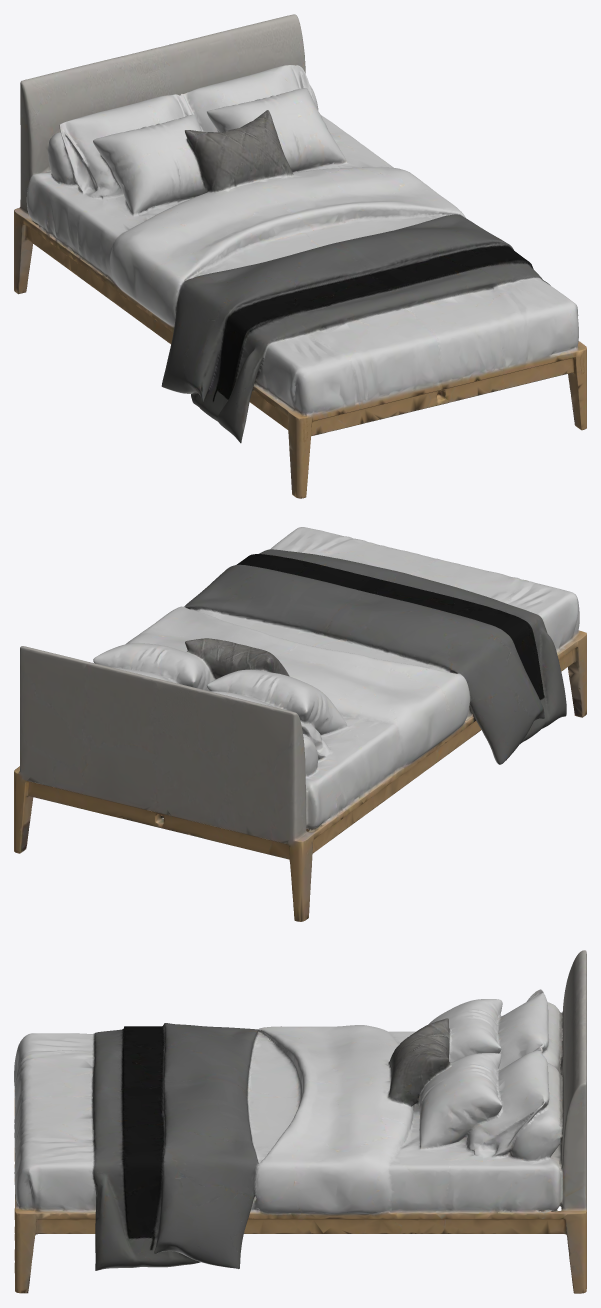
File: right-bed-full.glb
The picture shows the model from 3 angles, top to bottom: view 1: azimuth 30°, elevation 25°; view 2: azimuth 150°, elevation 25°; view 3: azimuth 270°, elevation 25°; orthographic projection.
Parts seen in each view (by area): view 1: Meshy_AI_Serene_Minimalist_Bed_20261119_texture; view 2: Meshy_AI_Serene_Minimalist_Bed_20261119_texture; view 3: Meshy_AI_Serene_Minimalist_Bed_20261119_texture.
Part boxes in pixels (x1,y1,x2,y2): Meshy_AI_Serene_Minimalist_Bed_20261119_texture: (14, 14, 586, 498); Meshy_AI_Serene_Minimalist_Bed_20261119_texture: (14, 527, 586, 921); Meshy_AI_Serene_Minimalist_Bed_20261119_texture: (14, 950, 586, 1293).
Bounding box in the file's own units: 1.51 × 0.8599 × 2.16.
Materials: 1 (1 with a texture image).
